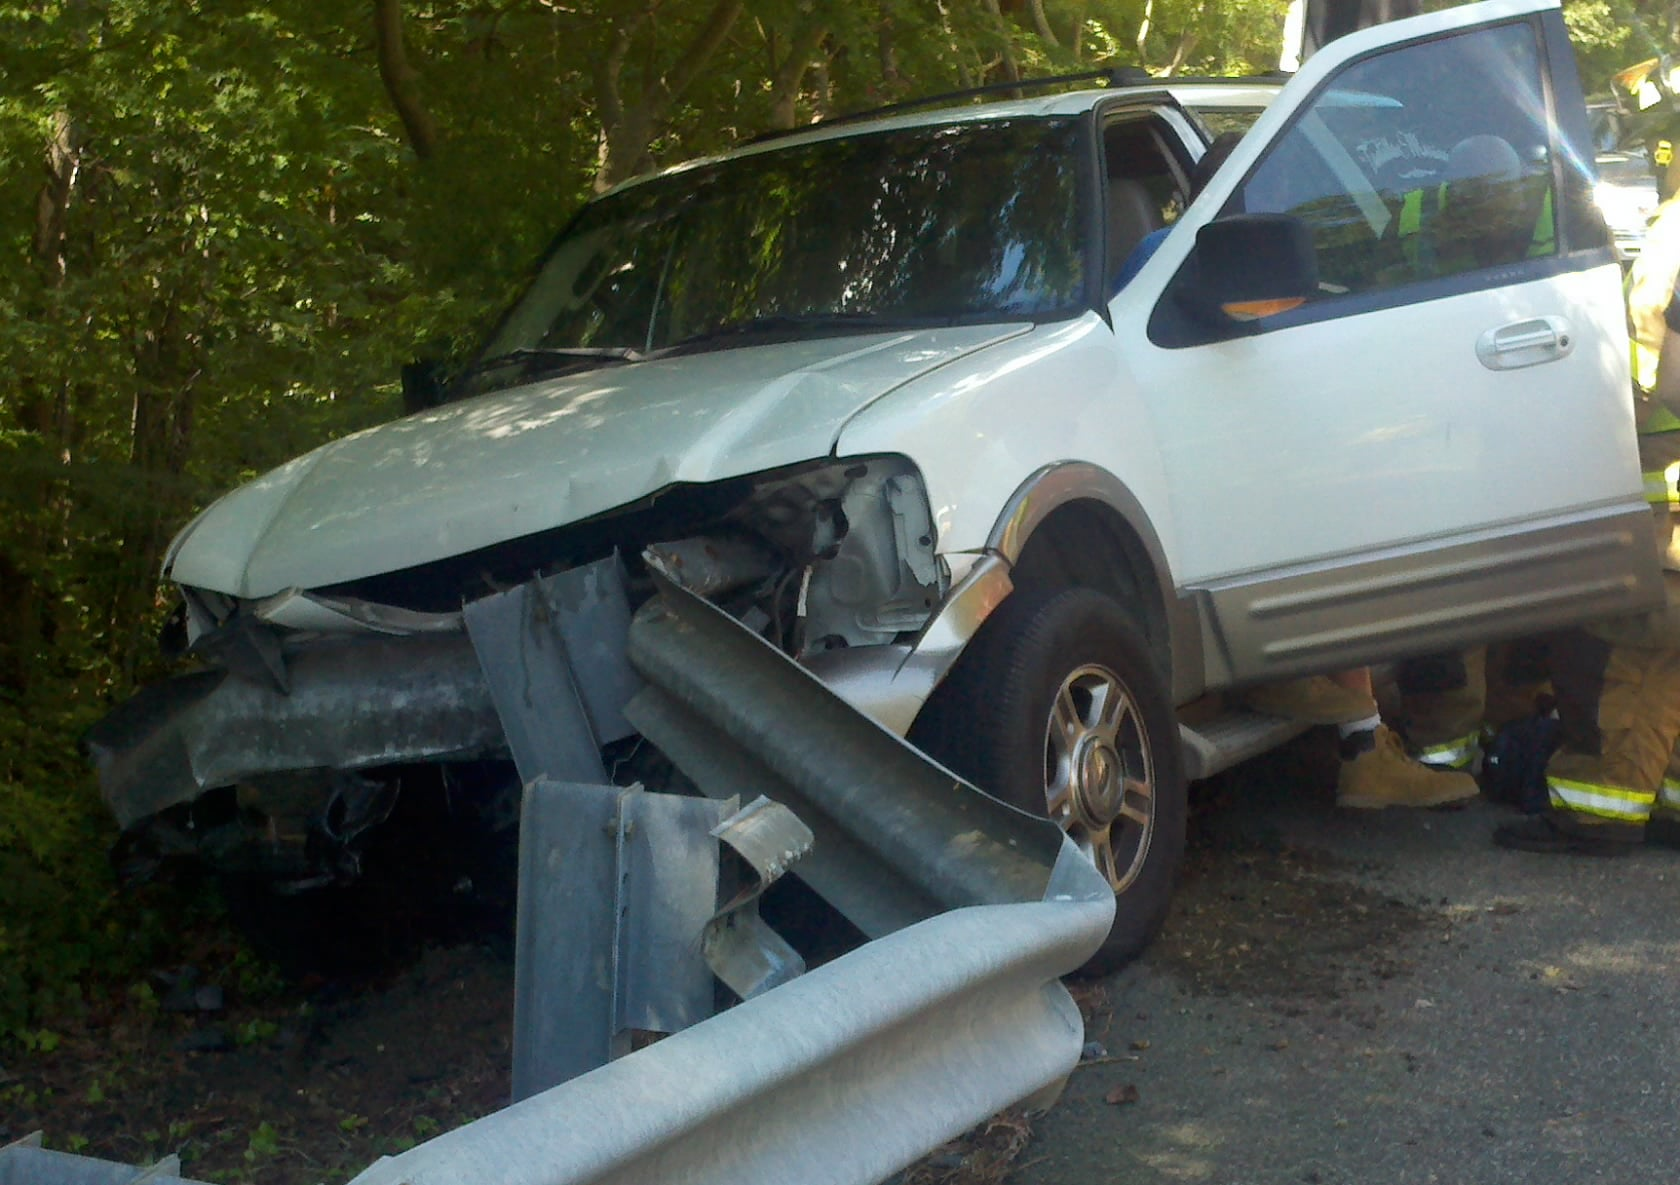damaged: (449, 706, 993, 1055)
